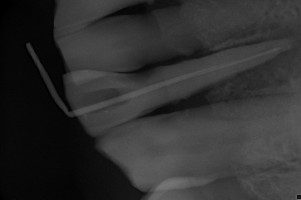Dental Caries: (200, 18, 301, 104)
